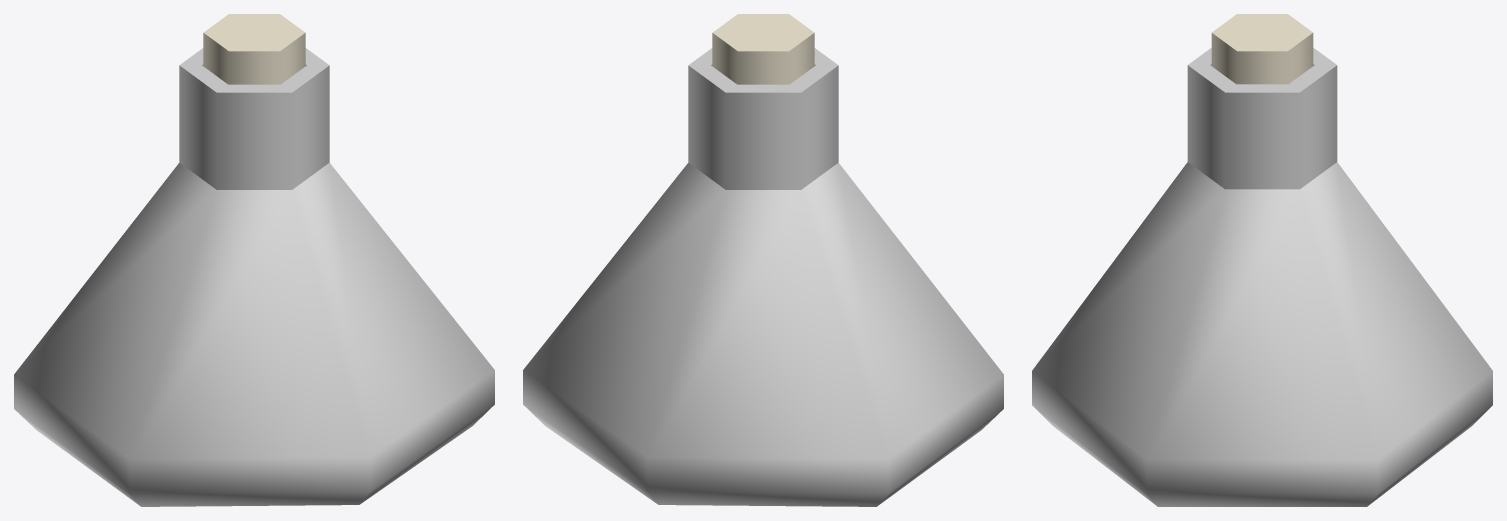
File: Vial_5.fbx
3 views of the same model, side by side, from view 1: azimuth 30°, elevation 25°; view 2: azimuth 150°, elevation 25°; view 3: azimuth 270°, elevation 25° (orthographic).
Parts seen in each view (by area): view 1: ManaFlask; view 2: ManaFlask; view 3: ManaFlask.
Part boxes in pixels (<box>): ManaFlask: <box>14,14,494,506</box>; ManaFlask: <box>523,14,1003,506</box>; ManaFlask: <box>1032,14,1492,506</box>.
Bounding box in the file's own units: 12.73 × 13.17 × 13.97.
